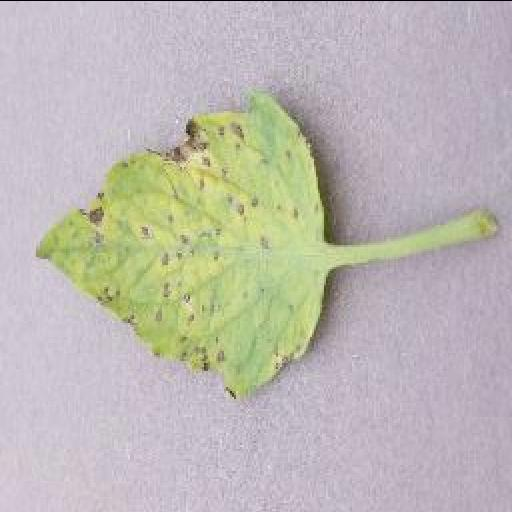disease_tomato: (32, 92, 326, 400)
